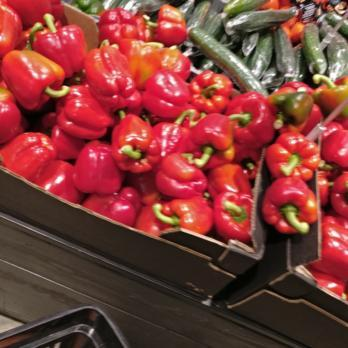Capsicum: (96, 8, 203, 217), (1, 0, 96, 177), (197, 76, 280, 241), (273, 93, 348, 231), (313, 219, 348, 299)
